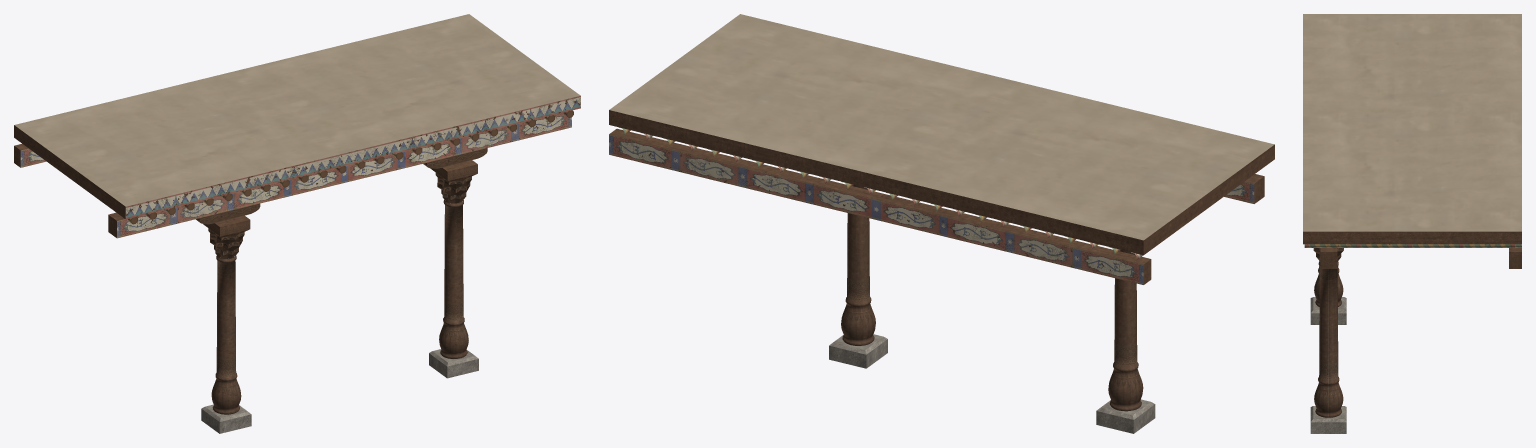
The model's file is aivan_section.glb.
3 renders of one model, left to right at view 1: azimuth 30°, elevation 25°; view 2: azimuth 150°, elevation 25°; view 3: azimuth 270°, elevation 25°, orthographic. The views are drawn at different scales.
Visible parts, largest first — view 1: aivan_section; view 2: aivan_section; view 3: aivan_section.
Part boxes in pixels (<box>): aivan_section: <box>14,14,580,433</box>; aivan_section: <box>609,14,1274,433</box>; aivan_section: <box>1303,14,1521,433</box>.
Bounding box in the file's own units: 6 × 3.2 × 2.55.
1 material, 1 textured.
